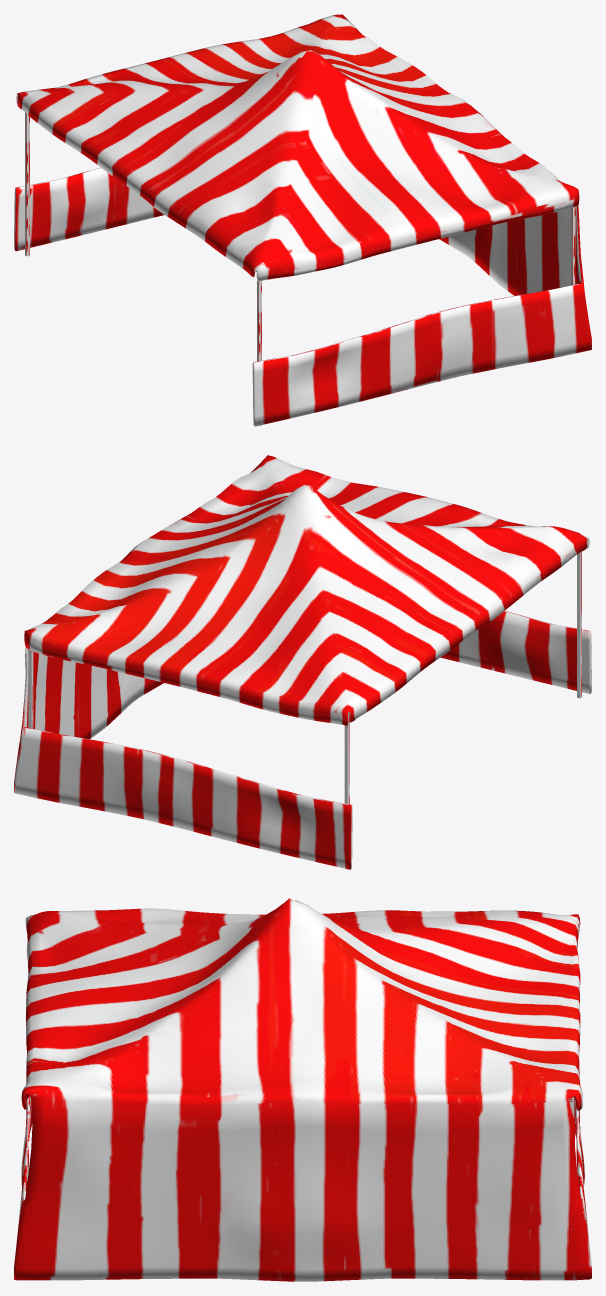
The model's file is tent_fix.fbx.
The picture shows the model from 3 angles, top to bottom: view 1: azimuth 30°, elevation 25°; view 2: azimuth 150°, elevation 25°; view 3: azimuth 270°, elevation 25°; orthographic projection. The views are drawn at different scales.
Visible parts, largest first — view 1: Tent_High, Posts; view 2: Tent_High, Posts; view 3: Tent_High.
Part boxes in pixels (x1,y1,x2,y2): Tent_High: (14, 14, 591, 426); Posts: (25, 112, 575, 426); Tent_High: (14, 455, 591, 869); Posts: (28, 551, 581, 804); Tent_High: (14, 898, 591, 1281).
Bounding box in the file's own units: 1205 × 856 × 1534.
